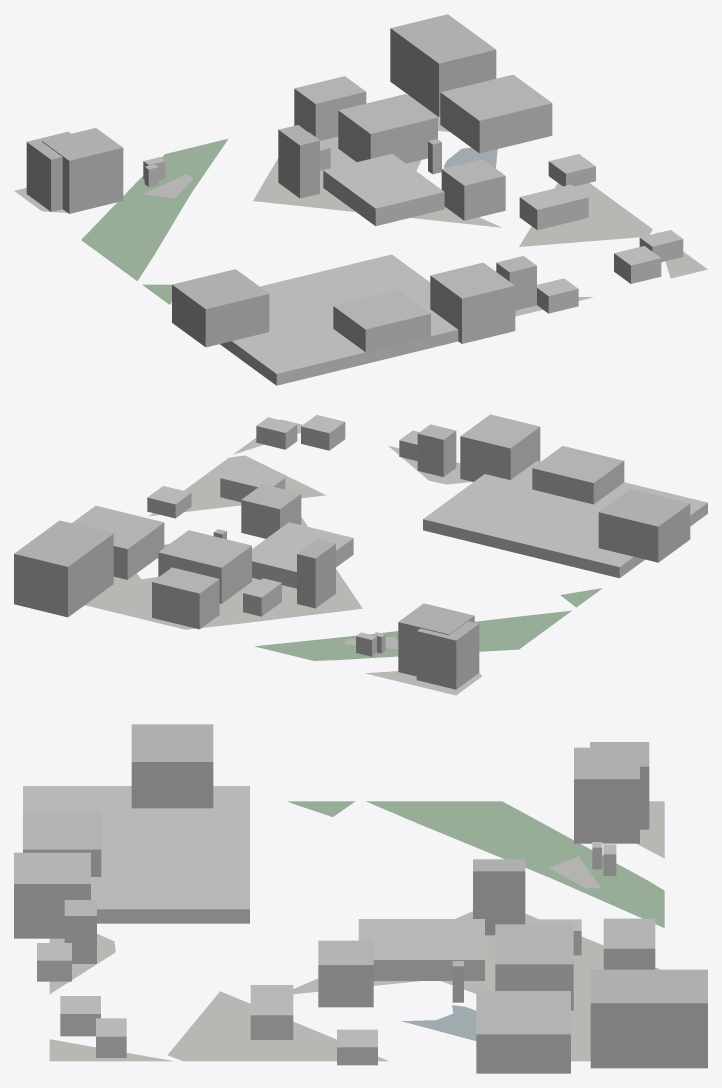
Rendered from 113_109_mid.glb.
The picture shows the model from 3 angles, top to bottom: view 1: azimuth 30°, elevation 25°; view 2: azimuth 150°, elevation 25°; view 3: azimuth 270°, elevation 25°; orthographic projection. The views are drawn at different scales.
Bounding box in the file's own units: 556 × 58.31 × 564.
